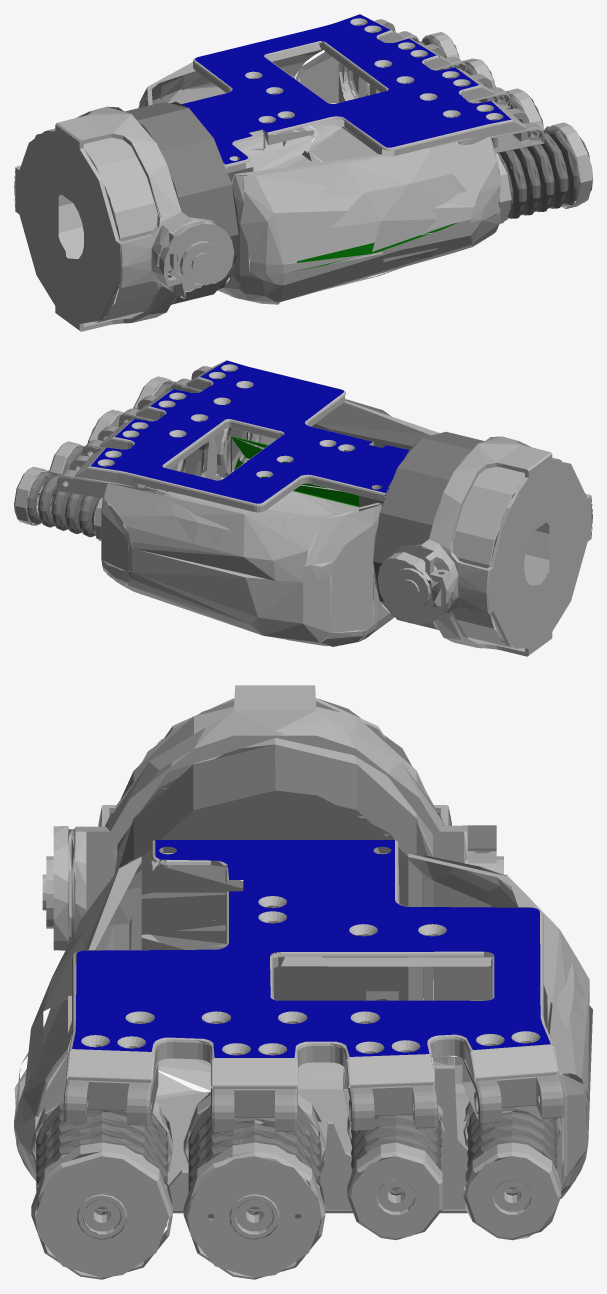
File: ArmR_Wri2_joint_visu.dae
The picture shows the model from 3 angles, top to bottom: view 1: azimuth 30°, elevation 25°; view 2: azimuth 150°, elevation 25°; view 3: azimuth 270°, elevation 25°; orthographic projection. The views are drawn at different scales.
Parts seen in each view (by area): view 1: Visualization_ARDof8; view 2: Visualization_ARDof8; view 3: Visualization_ARDof8.
Part boxes in pixels (x1,y1,x2,y2): Visualization_ARDof8: (14,14,592,331); Visualization_ARDof8: (14,360,592,656); Visualization_ARDof8: (14,685,592,1279).
Bounding box in the file's own units: 0.1182 × 0.0797 × 0.049.
